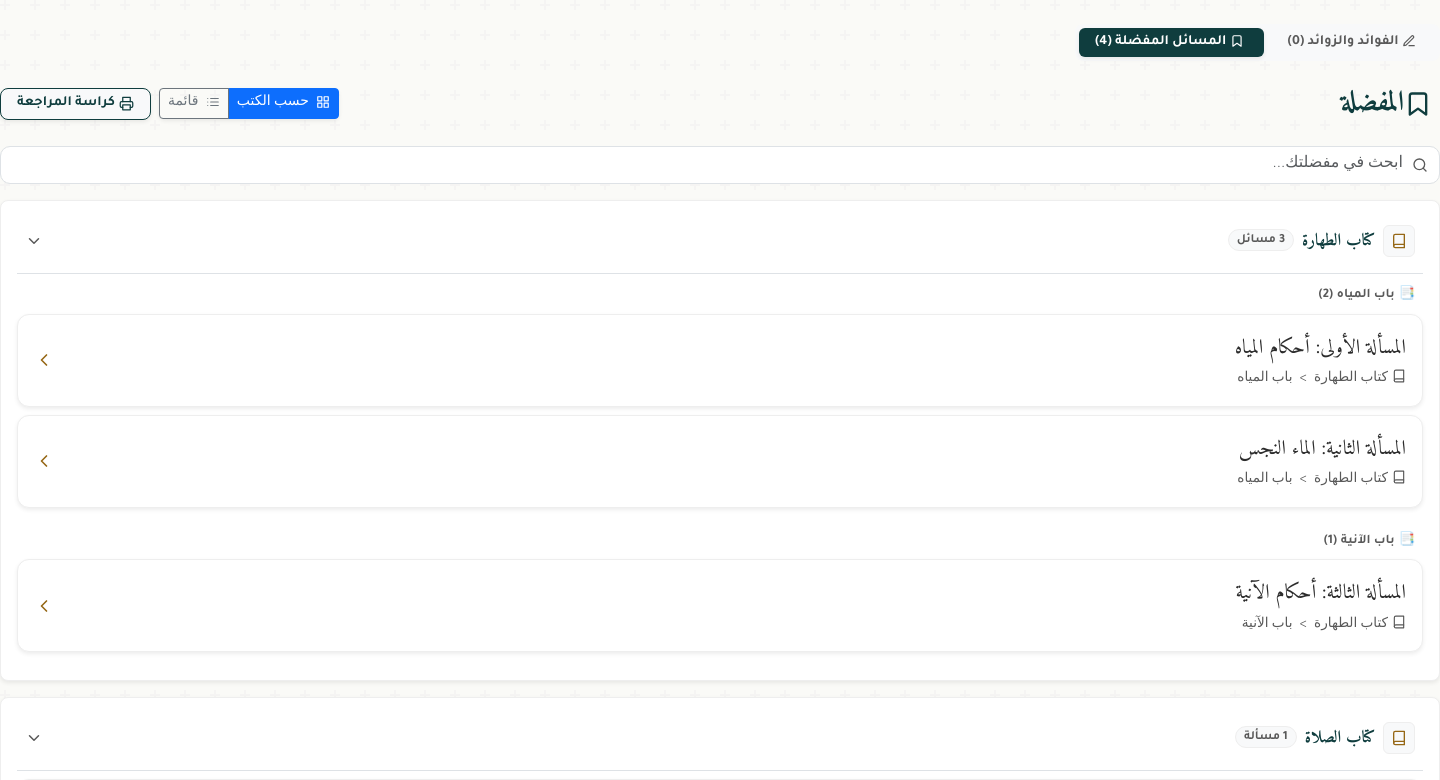
Test case: BookmarksView Component › يعرض حقل البحث عند وجود أكثر من 3 مسائل ويُصفّي النتائج
This screenshot has width=1440, height=780.
Type "الآنية" into the field with placeholder "ابحث في مفضلتك...".
click(720, 165); type("الآنية")  # box [0,146,1439,184]
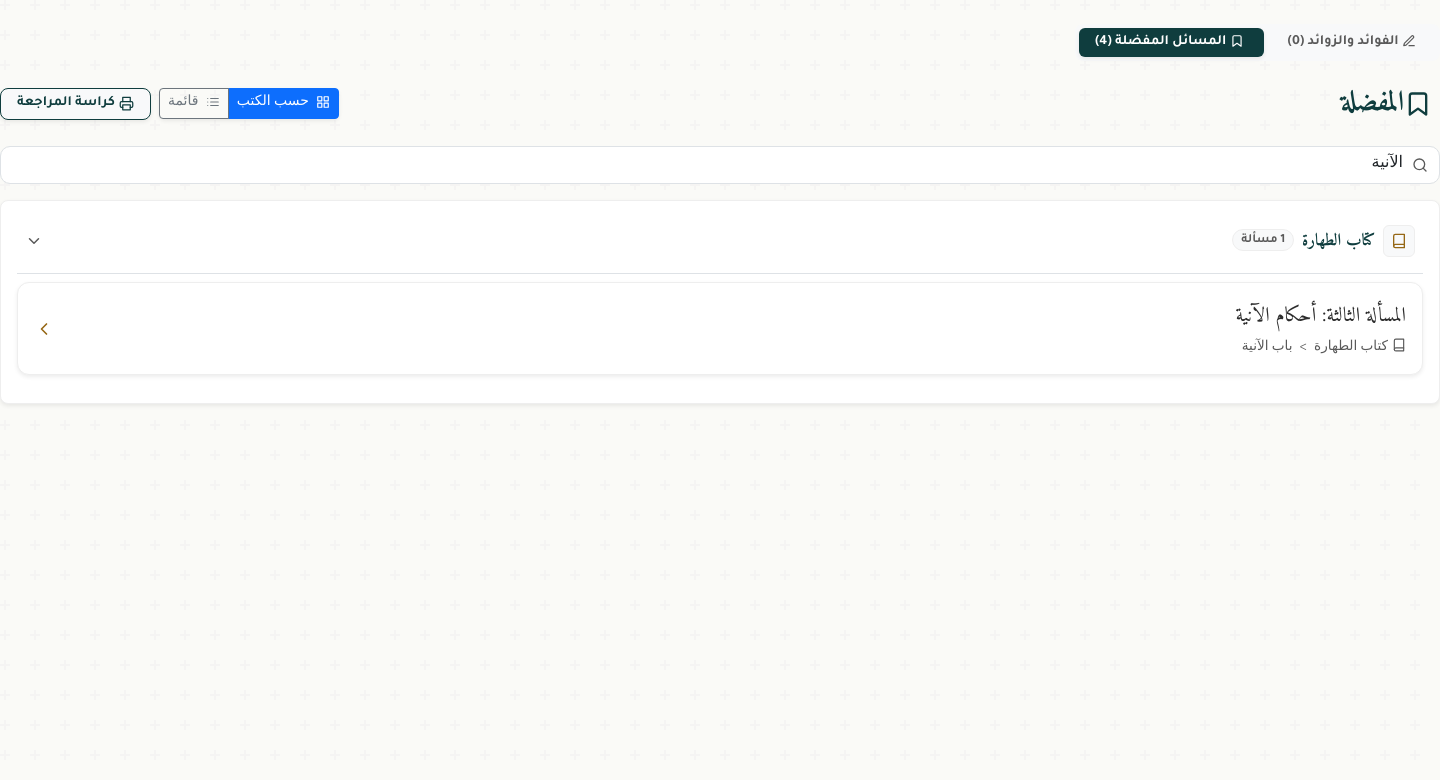
Expected: the text "المسألة الثالثة: أحكام الآنية" is shown, [1236,299,1406,334]
Result: the button "المسألة الأولى: أحكام المياه" is gone
